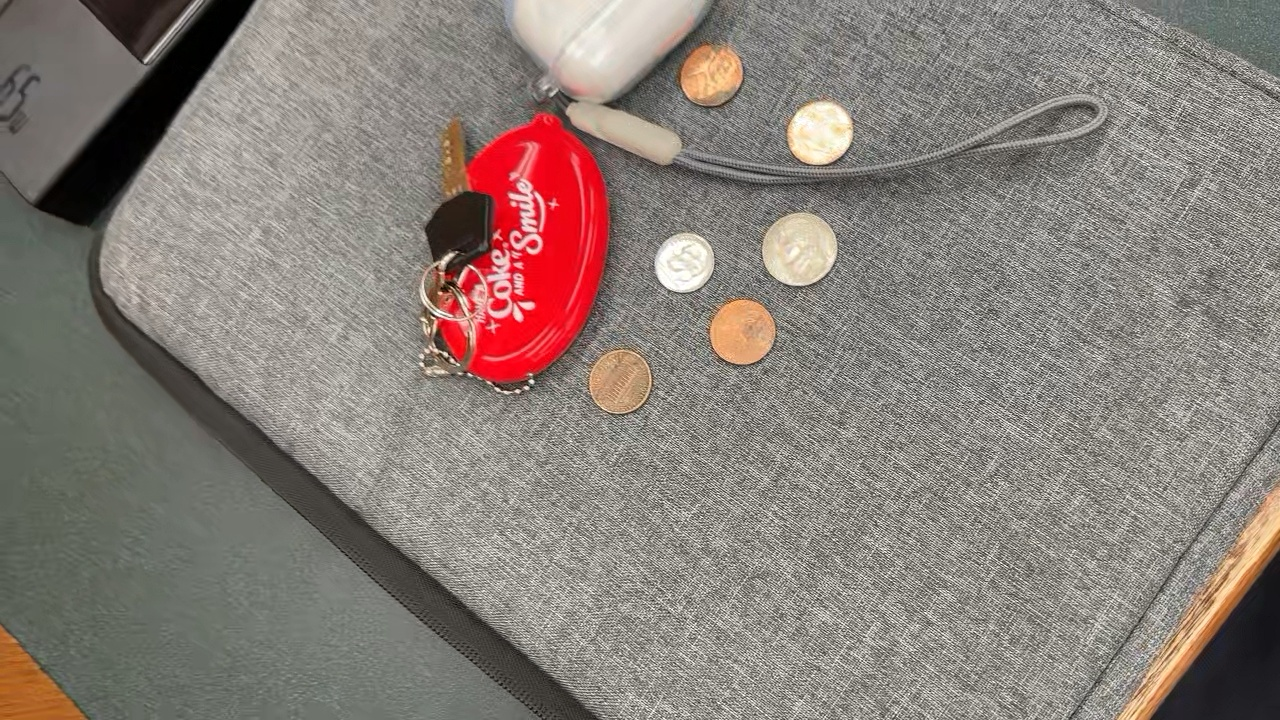dime: (651, 232, 716, 293)
nickle: (761, 211, 841, 290)
penny: (708, 296, 779, 368), (786, 98, 857, 167), (588, 347, 655, 415), (677, 42, 746, 108)
